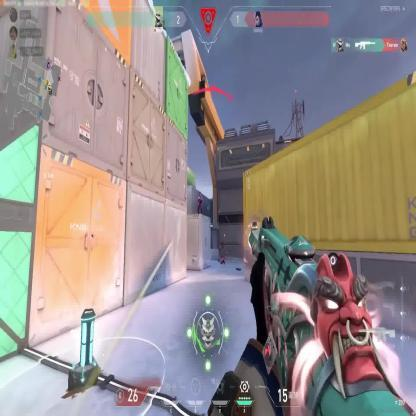enemy: (197, 190, 202, 214)
enemy_head: (199, 191, 201, 198)
